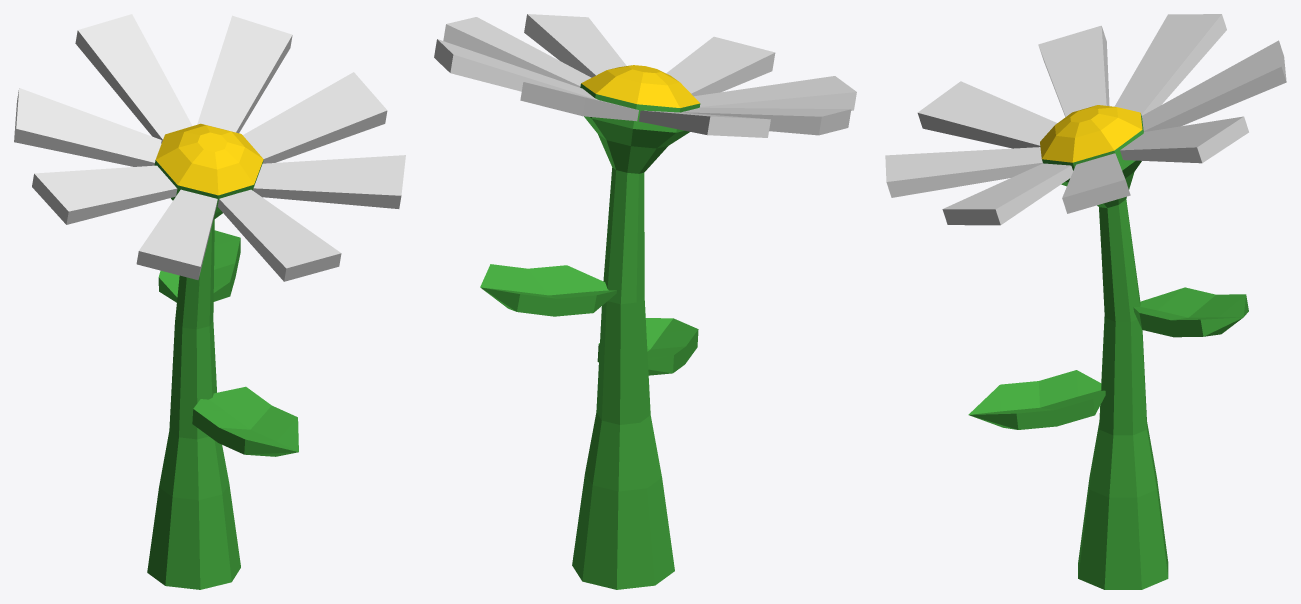
The model's file is flowerWhite.glb.
3 renders of one model, left to right at view 1: azimuth 30°, elevation 25°; view 2: azimuth 150°, elevation 25°; view 3: azimuth 270°, elevation 25°, orthographic. The views are drawn at different scales.
Visible parts, largest first — view 1: Flower.002; view 2: Flower.002; view 3: Flower.002.
Part boxes in pixels (x1=…): Flower.002: x1=14, y1=14, x2=405, y2=589; Flower.002: x1=434, y1=14, x2=856, y2=589; Flower.002: x1=885, y1=14, x2=1286, y2=589.
Size of the model in its own units: 6.91 by 9.8 by 6.97.
